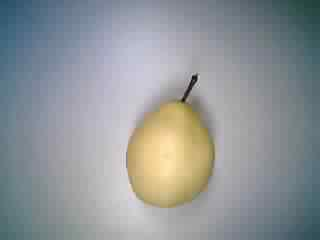pear: (111, 67, 219, 214)
